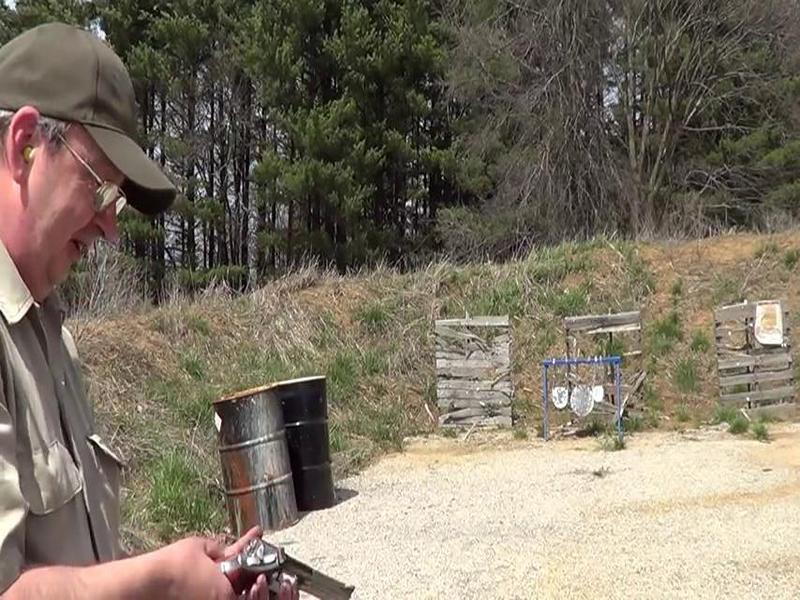Revolver: (185, 513, 353, 600)
